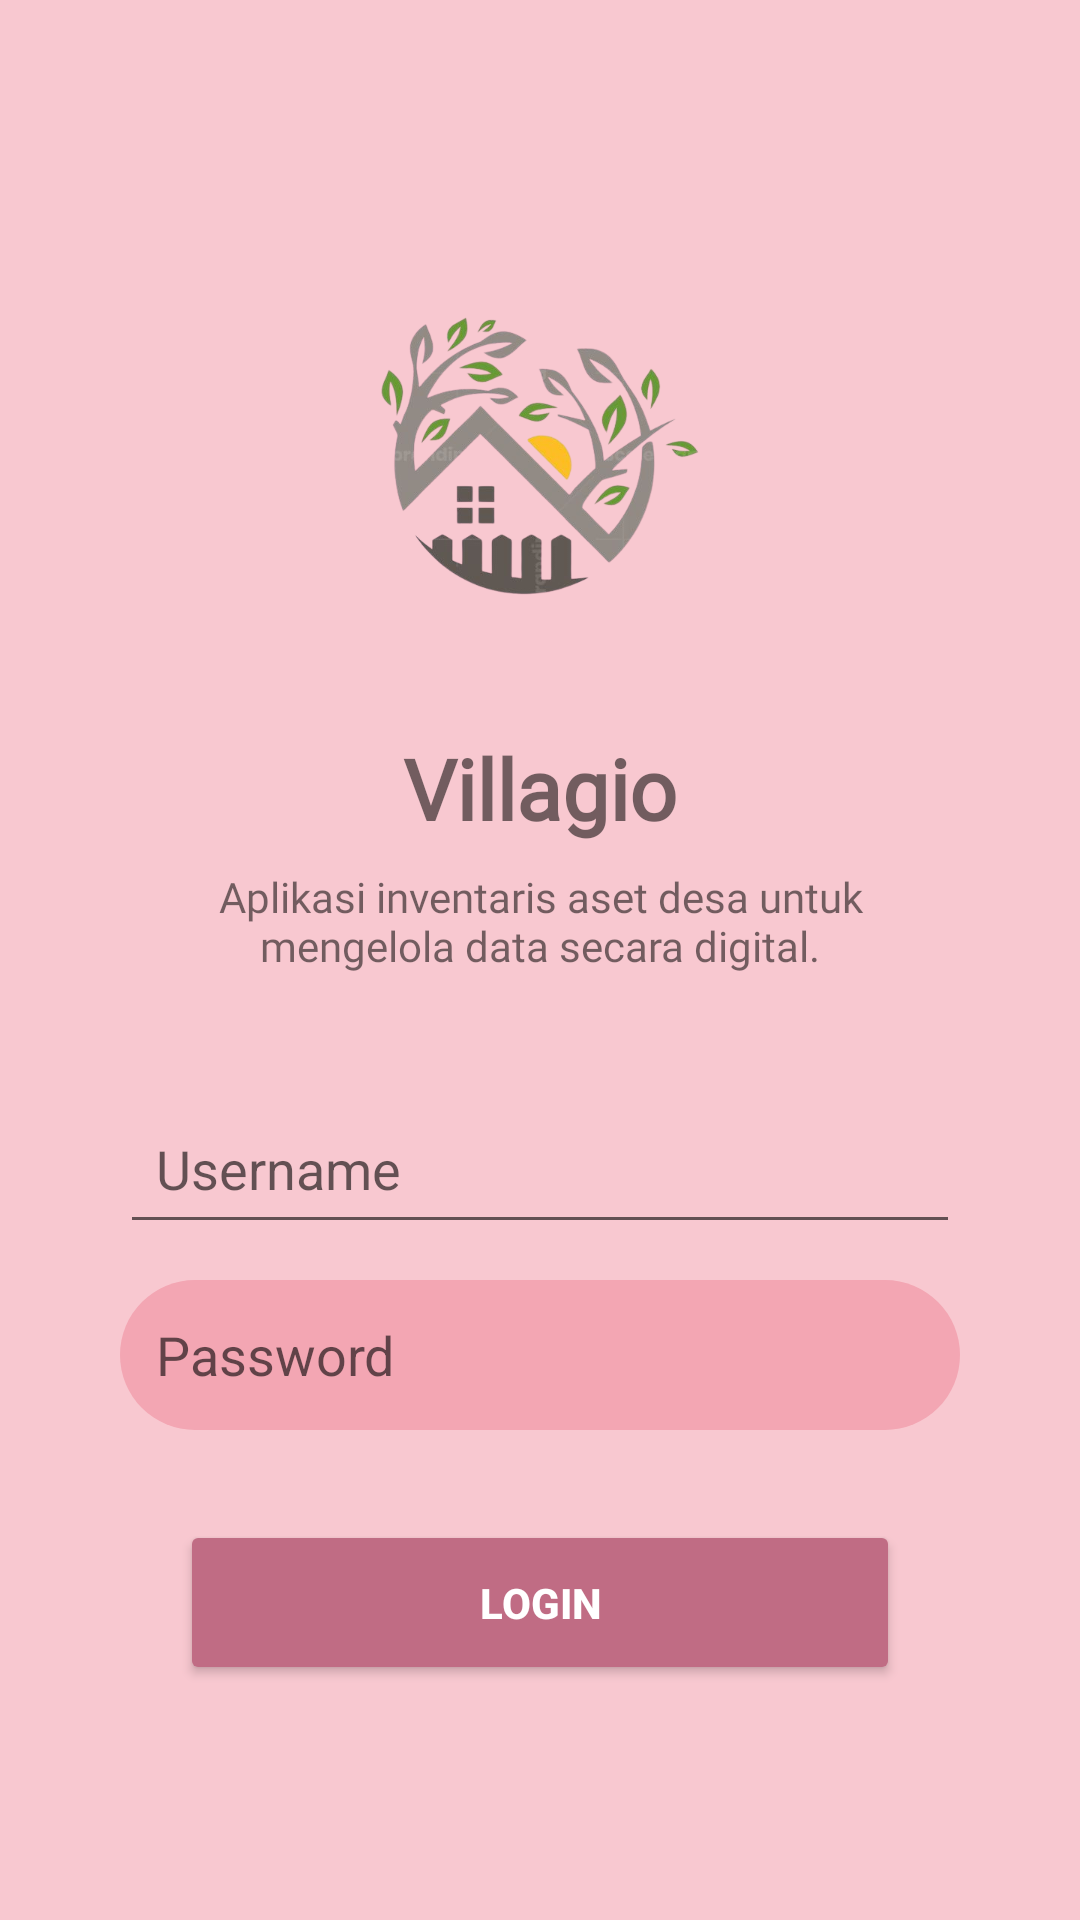

Icons on this 1080x1920 Android screen, each with its box as (x1, y1, x2, y2):
gambar: (381, 318, 698, 594)
